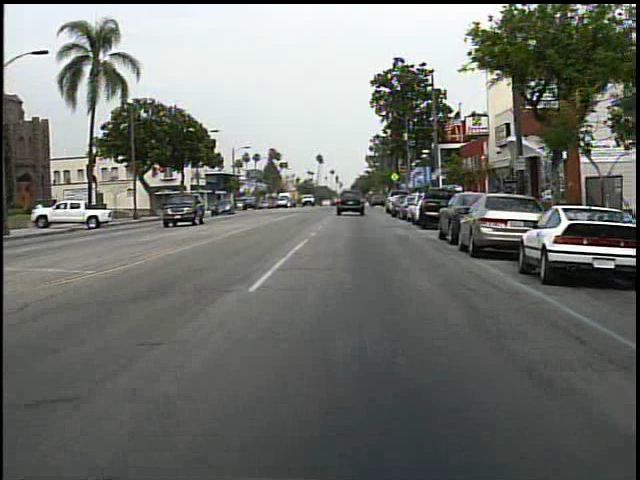person: (336, 188, 359, 217), (35, 198, 50, 223)
